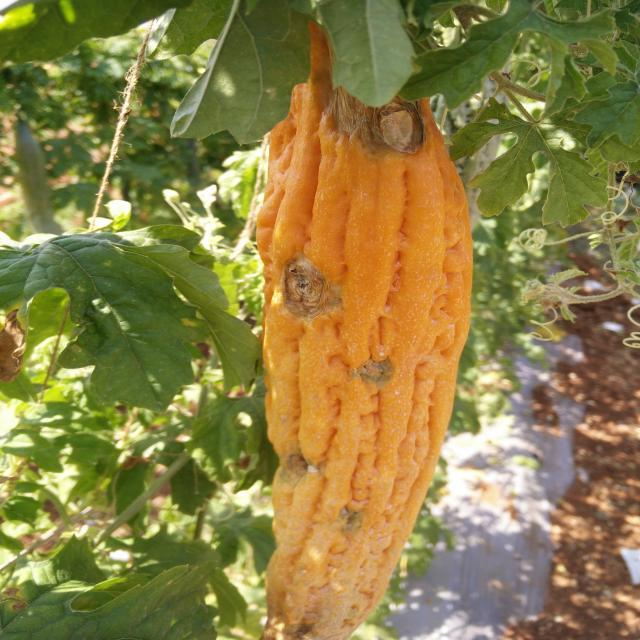Fruit fly: (330, 80, 435, 162), (262, 257, 366, 328), (2, 294, 41, 389), (322, 500, 392, 549), (348, 344, 406, 396), (272, 440, 328, 483)
